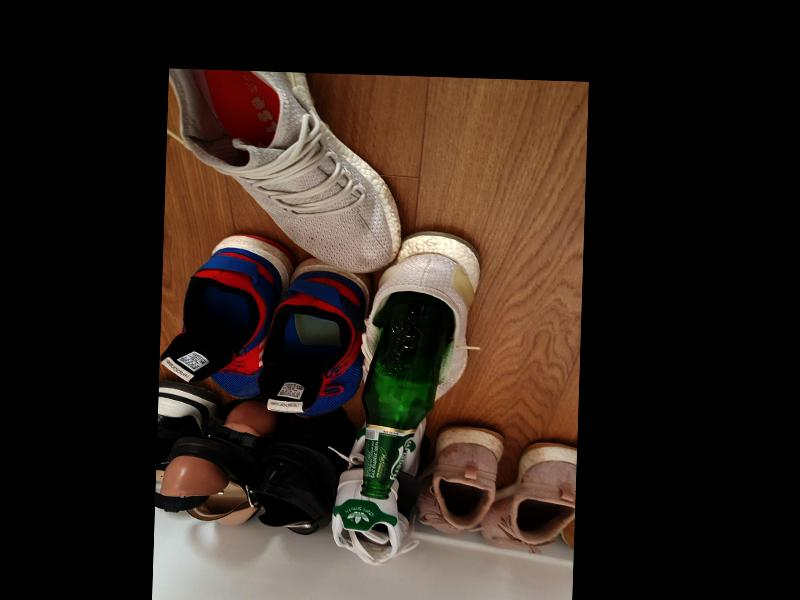Beer: (358, 291, 452, 498)
